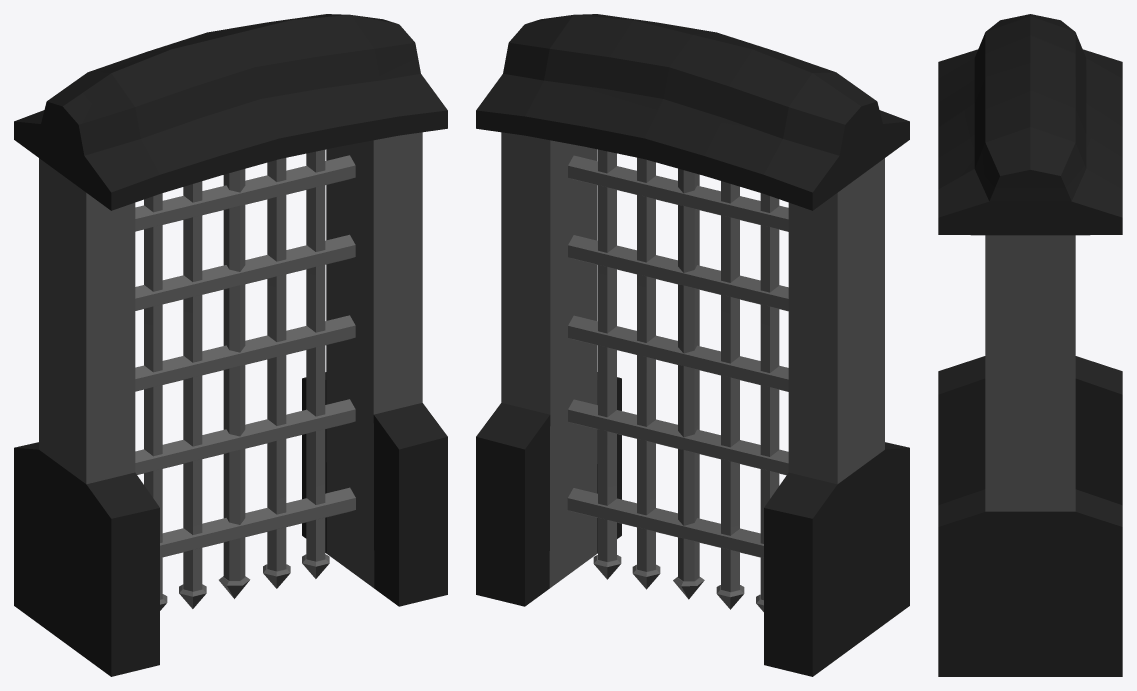
The model's file is Gate_archway_C.fbx.
3 views of the same model, side by side, from view 1: azimuth 30°, elevation 25°; view 2: azimuth 150°, elevation 25°; view 3: azimuth 270°, elevation 25° (orthographic). The views are drawn at different scales.
Visible parts, largest first — view 1: Gate_archway_C, Gate_archway_door.003; view 2: Gate_archway_C, Gate_archway_door.003; view 3: Gate_archway_C.
Boxes of the visible parts, bbox=[...] form: Gate_archway_C: bbox=[14, 14, 447, 676]; Gate_archway_door.003: bbox=[135, 149, 355, 610]; Gate_archway_C: bbox=[476, 14, 909, 676]; Gate_archway_door.003: bbox=[567, 149, 788, 611]; Gate_archway_C: bbox=[938, 14, 1122, 676].
Size of the model in its own units: 200 by 321 by 100.
